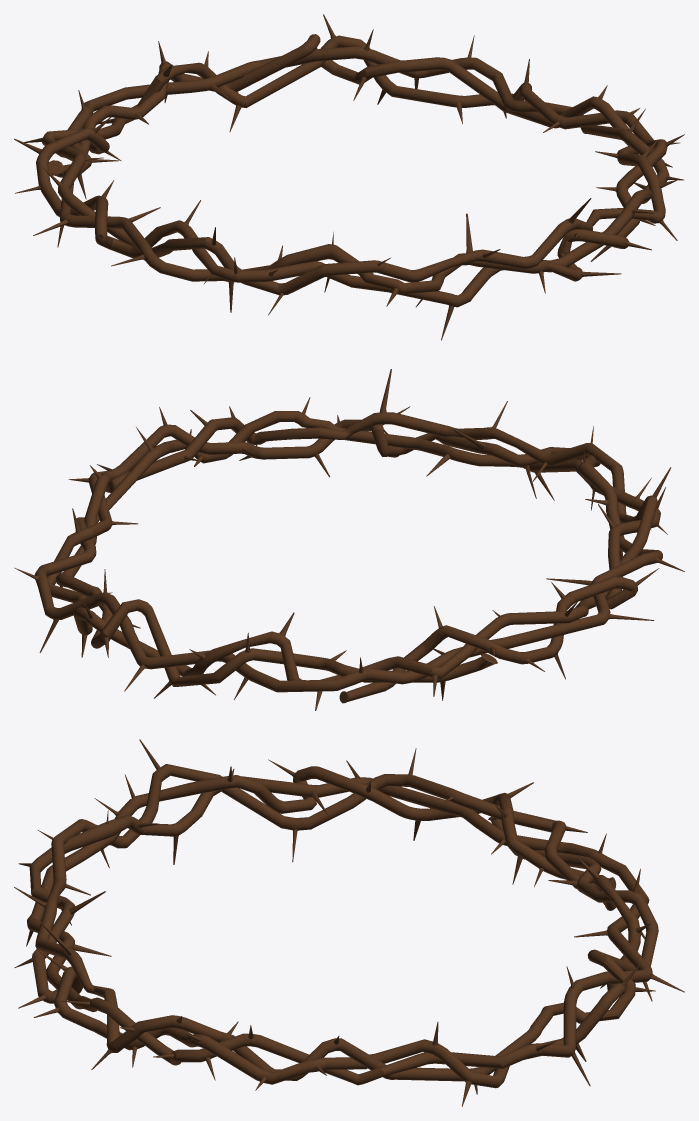
File: Crown.glb
3 views of the same model, one above another, from view 1: azimuth 30°, elevation 25°; view 2: azimuth 150°, elevation 25°; view 3: azimuth 270°, elevation 25° (orthographic). The views are drawn at different scales.
Visible parts, largest first — view 1: Crown; view 2: Crown; view 3: Crown.
Part boxes in pixels (<box>): Crown: <box>14,14,684,340</box>; Crown: <box>14,369,684,710</box>; Crown: <box>14,739,684,1106</box>.
Bounding box in the file's own units: 7.98 × 1.64 × 7.38.
